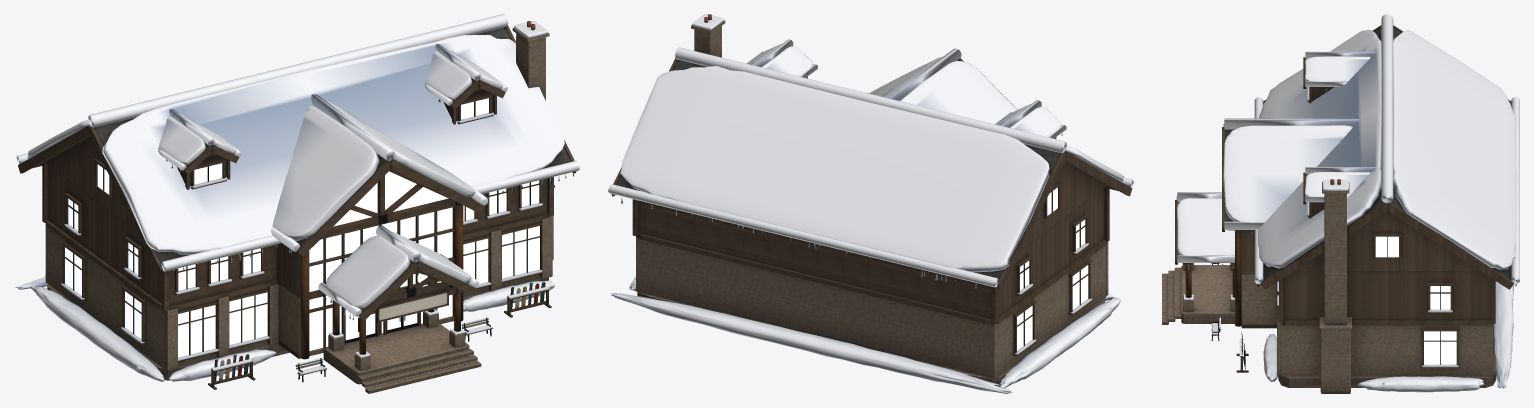
File: base_lodge.glb
3 views of the same model, side by side, from view 1: azimuth 30°, elevation 25°; view 2: azimuth 150°, elevation 25°; view 3: azimuth 270°, elevation 25° (orthographic). The views are drawn at different scales.
Parts seen in each view (by area): view 1: base_lodge_snow, base_lodge, base_lodge_lit; view 2: base_lodge_snow, base_lodge, base_lodge_lit; view 3: base_lodge_snow, base_lodge, base_lodge_lit.
Boxes of the visible parts, x1,y1,x2,y2 form: base_lodge_snow: (15, 14, 579, 381); base_lodge: (18, 21, 576, 393); base_lodge_lit: (65, 98, 539, 357); base_lodge_snow: (608, 14, 1133, 393); base_lodge: (611, 14, 1132, 386); base_lodge_lit: (1017, 187, 1088, 350); base_lodge_snow: (1176, 14, 1519, 392); base_lodge: (1162, 25, 1516, 393); base_lodge_lit: (1375, 236, 1456, 364).
Bounding box in the file's own units: 29.55 × 15.45 × 23.62.
Materials: 4 (1 with a texture image).
